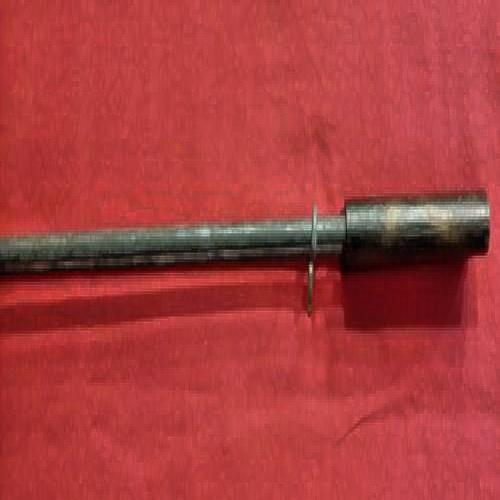toaster: (20, 195, 483, 282)
